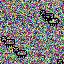sheep: (12, 46, 27, 58), (1, 36, 15, 47)
